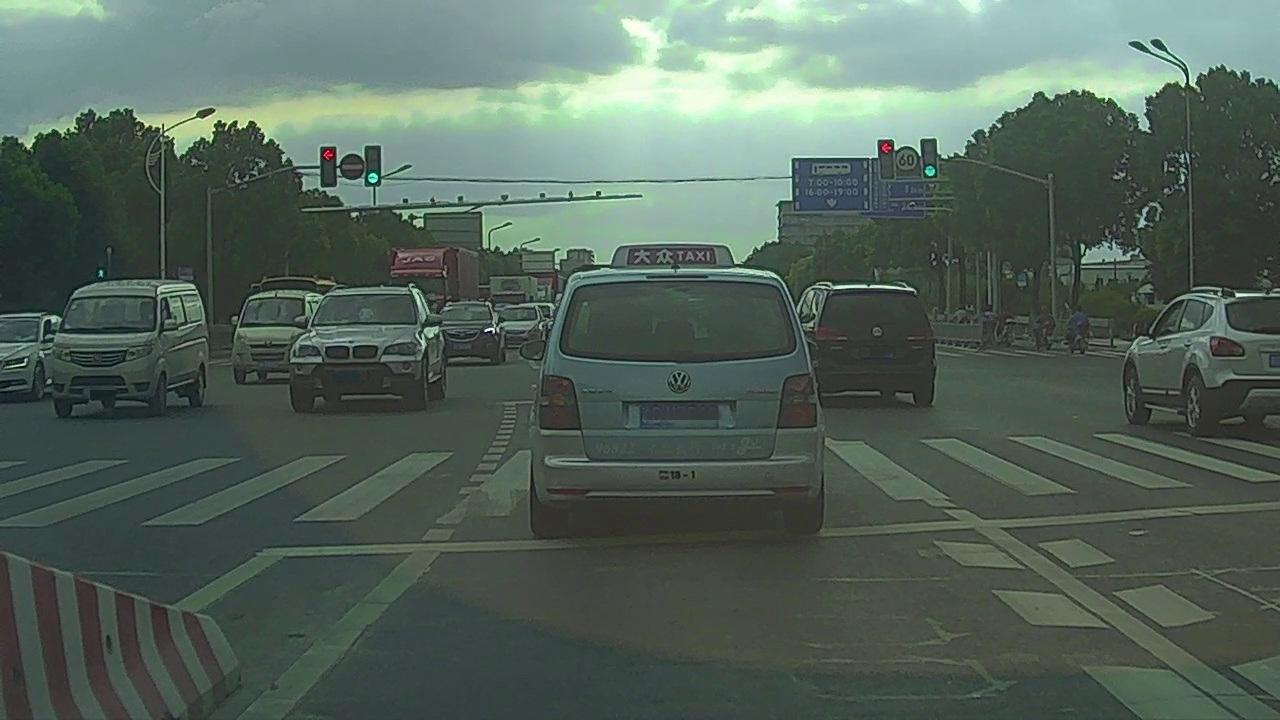traffic_light: (919, 139, 939, 181), (321, 146, 337, 187), (879, 140, 895, 180), (366, 145, 381, 187)
